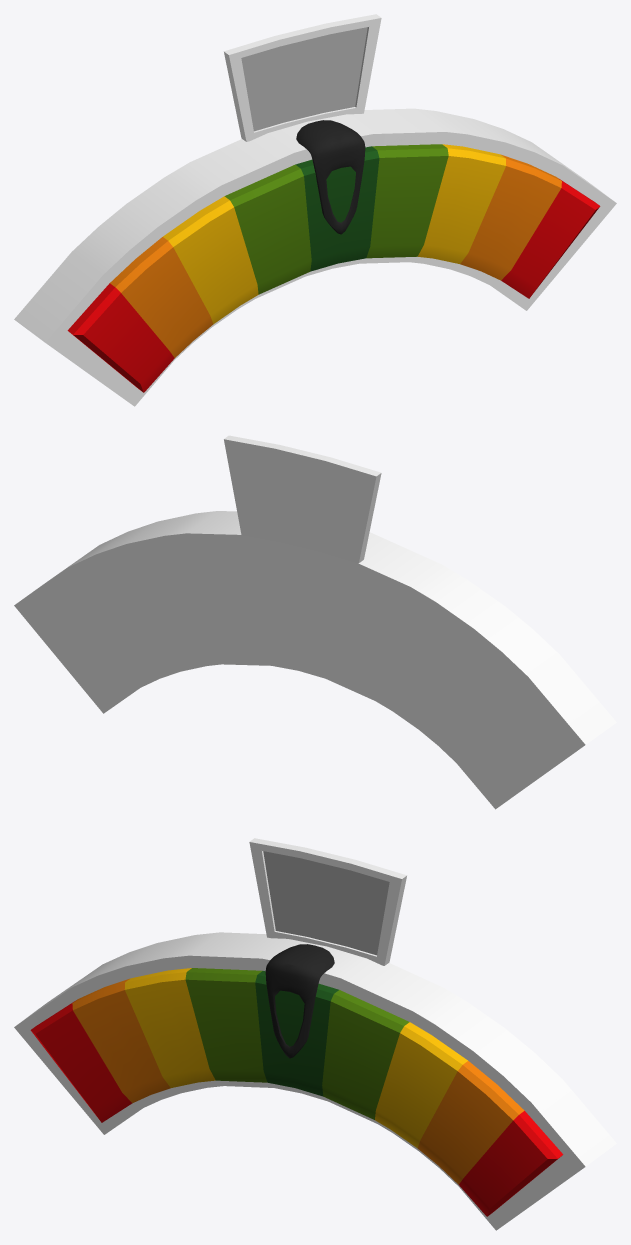
The model's file is CurvedMeter.fbx.
The picture shows the model from 3 angles, top to bottom: view 1: azimuth 30°, elevation 25°; view 2: azimuth 150°, elevation 25°; view 3: azimuth 330°, elevation 25°; orthographic projection.
Parts seen in each view (by area): view 1: Meter, Plane, Pointer; view 2: Meter, Plane; view 3: Meter, Plane, Pointer.
Boxes of the visible parts, <box> form: Meter: <box>14,108,616,406</box>; Plane: <box>224,14,381,141</box>; Pointer: <box>296,120,365,234</box>; Meter: <box>14,511,616,809</box>; Plane: <box>224,435,381,563</box>; Meter: <box>14,932,616,1230</box>; Plane: <box>249,838,406,965</box>; Pointer: <box>265,944,334,1058</box>.
Bounding box in the file's own units: 844 × 433 × 109.
